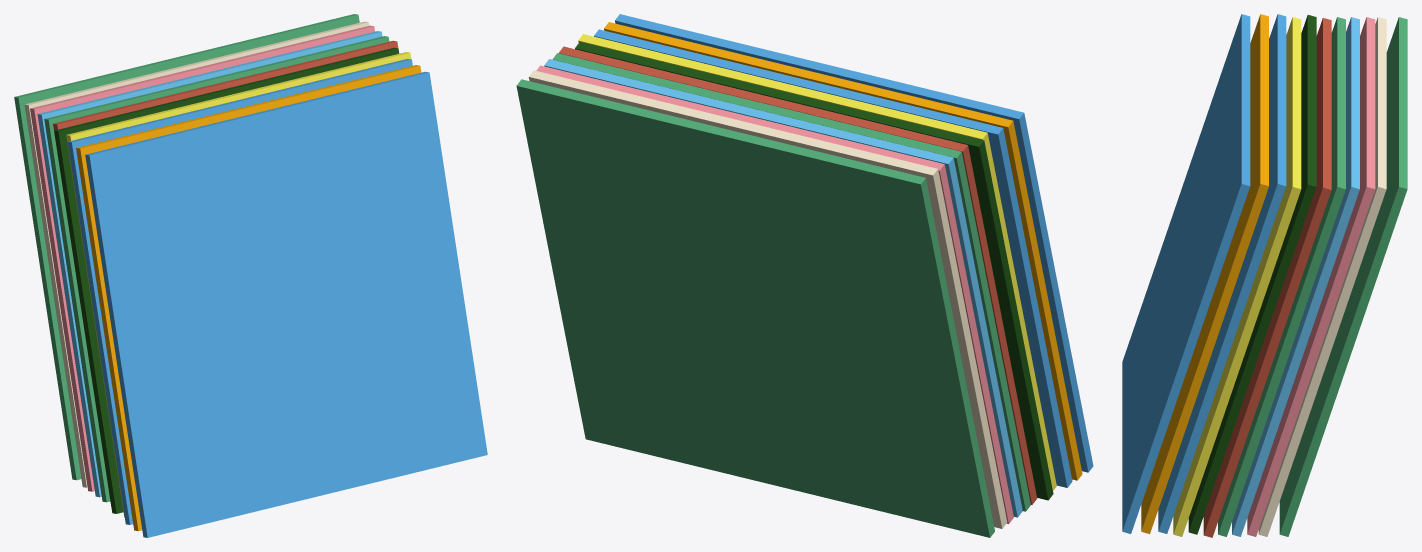
Rendered from Records.fbx.
3 renders of one model, left to right at view 1: azimuth 30°, elevation 25°; view 2: azimuth 150°, elevation 25°; view 3: azimuth 270°, elevation 25°, orthographic. The views are drawn at different scales.
Visible parts, largest first — view 1: Record, Record.012, Record.006, Record.001, Record.004, Record.008, Record.010, Record.009, Record.011, Record.005, Record.007; view 2: Record.012, Record.011, Record.006, Record.004, Record, Record.001, Record.009, Record.008, Record.007, Record.010, Record.005; view 3: Record, Record.012, Record.001, Record.004, Record.007, Record.005, Record.010, Record.006, Record.008, Record.009, Record.011.
Boxes of the visible parts, x1,y1,x2,y2 form: Record: (85, 71, 487, 537); Record.012: (14, 14, 359, 480); Record.006: (54, 47, 399, 513); Record.001: (76, 65, 421, 531); Record.004: (67, 59, 412, 524); Record.008: (44, 36, 389, 502); Record.010: (30, 25, 374, 491); Record.009: (37, 31, 382, 497); Record.011: (24, 21, 369, 487); Record.005: (66, 52, 411, 517); Record.007: (53, 40, 398, 503); Record.012: (516, 79, 994, 537); Record.011: (528, 70, 1007, 528); Record.006: (575, 42, 1053, 500); Record.004: (594, 29, 1072, 487); Record: (615, 14, 1093, 472); Record.001: (604, 22, 1082, 480); Record.009: (544, 59, 1022, 517); Record.008: (552, 53, 1030, 511); Record.007: (559, 46, 1037, 504); Record.010: (536, 65, 1013, 523); Record.005: (578, 34, 1056, 490); Record: (1122, 14, 1250, 533); Record.012: (1279, 17, 1407, 536); Record.001: (1141, 14, 1268, 533); Record.004: (1158, 14, 1286, 533); Record.007: (1203, 18, 1331, 537); Record.005: (1173, 17, 1301, 536); Record.010: (1247, 17, 1375, 536); Record.006: (1188, 15, 1316, 534); Record.008: (1218, 17, 1345, 536); Record.009: (1232, 17, 1359, 536); Record.011: (1258, 17, 1386, 536).
Size of the model in its own units: 0.9667 by 0.6712 by 0.9096.
